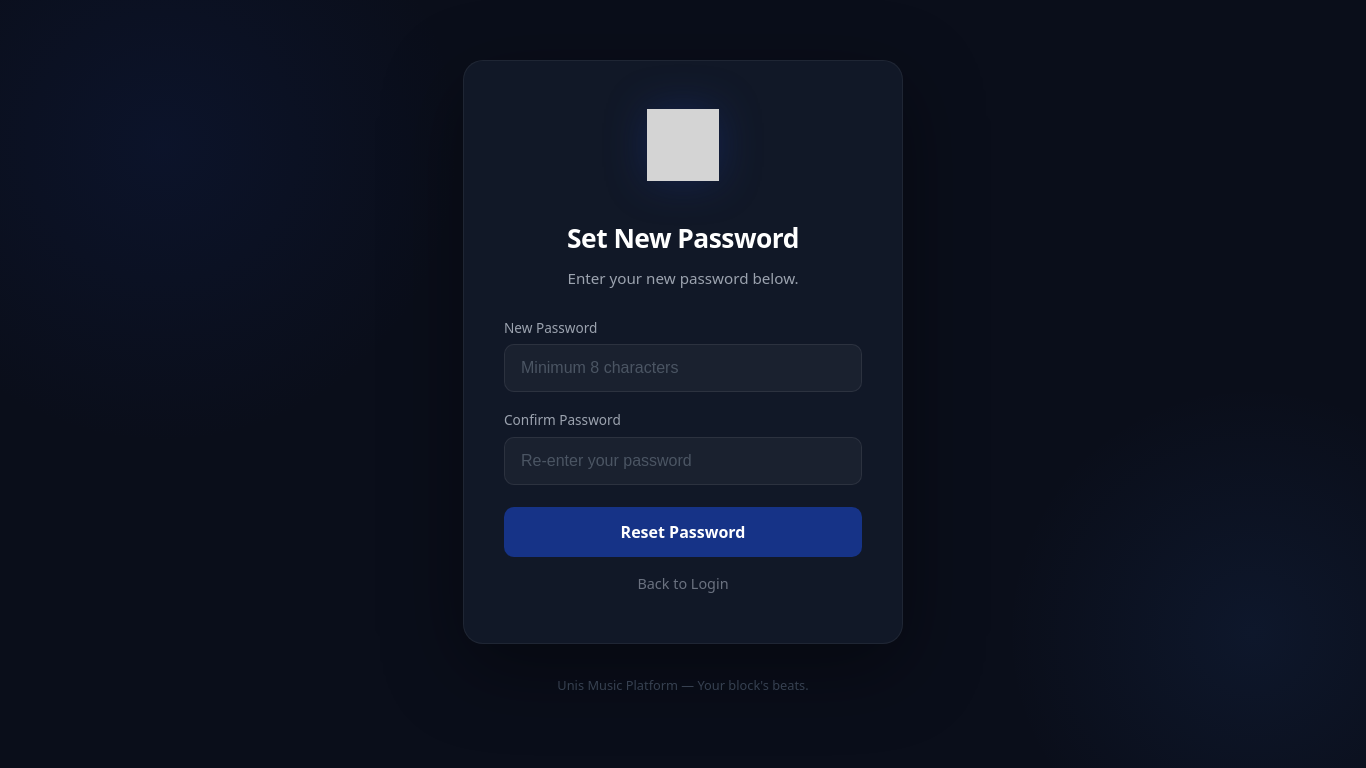
Test: API error handling › transitions to error state for: Invalid token provided
Type "newpassword123" into the password field with placeholder "Minimum 8 characters".
click(683, 368); type("newpassword123")  # box [504, 344, 862, 392]
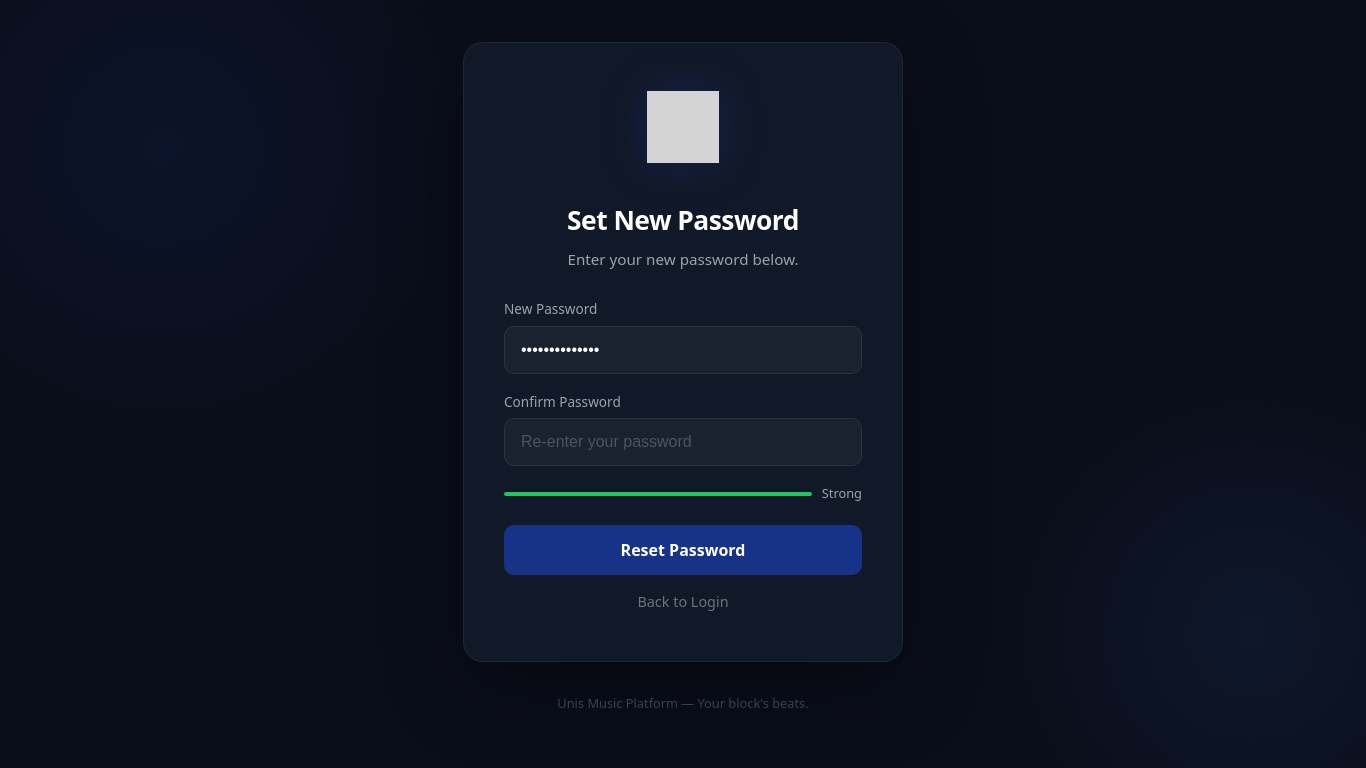
Type "newpassword123" into the password field with placeholder "Re-enter your password".
click(683, 442); type("newpassword123")  # box [504, 418, 862, 466]
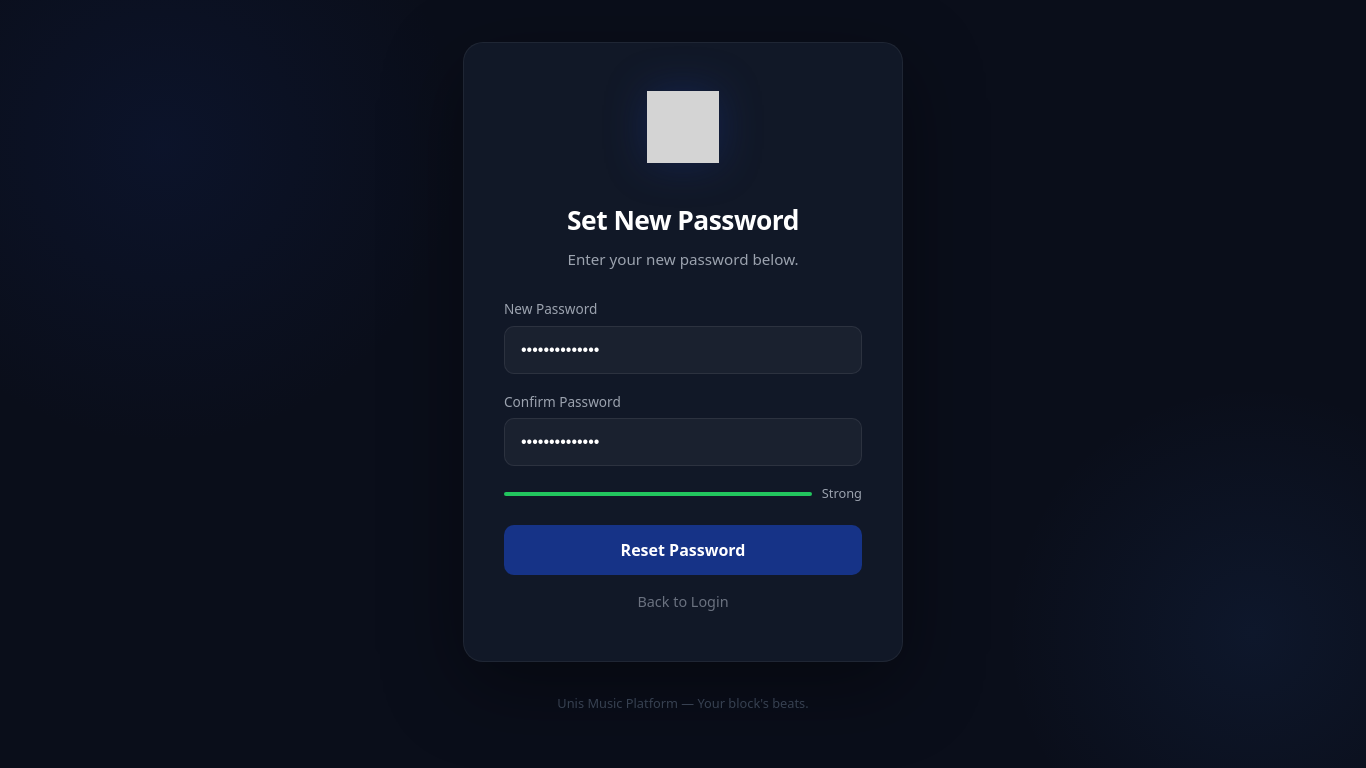
Click the button "Reset Password".
click(683, 550)  # box [504, 525, 862, 575]
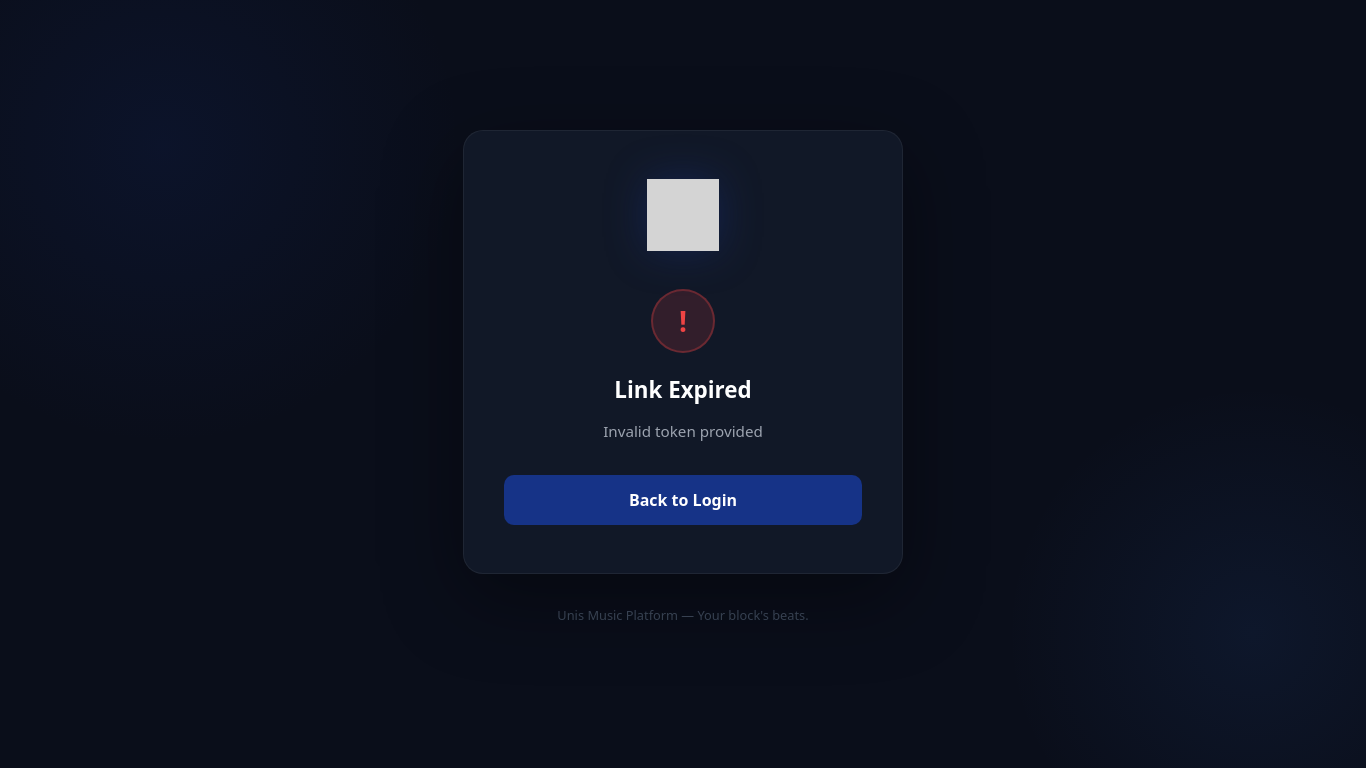
Expected: the heading "Link Expired" is shown, [614, 373, 752, 407]
Expected: the text "Invalid token provided" is shown, [603, 419, 763, 443]
